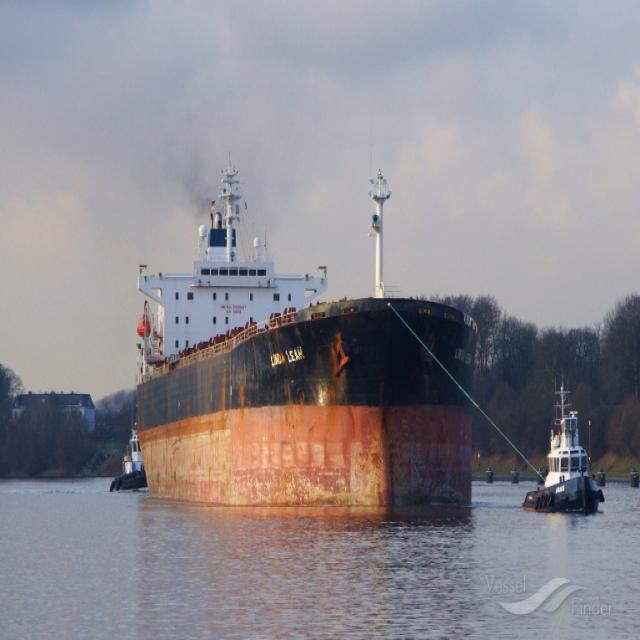OCR: (259, 346, 310, 370)
